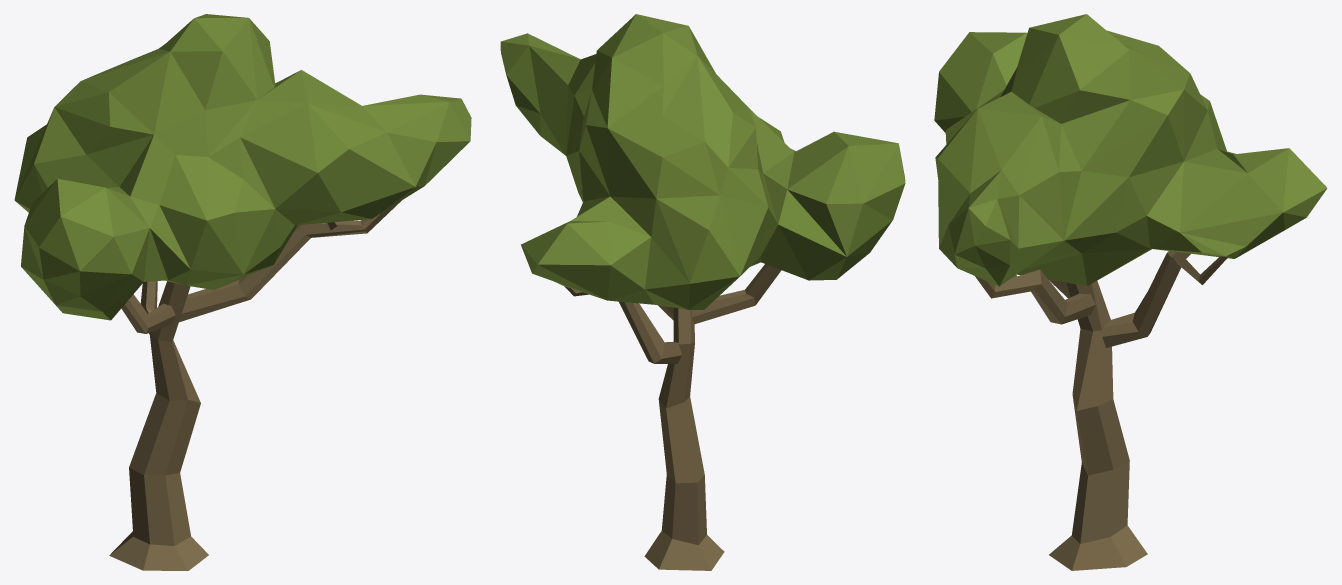
The model's file is Tree_2.fbx.
3 views of the same model, side by side, from view 1: azimuth 30°, elevation 25°; view 2: azimuth 150°, elevation 25°; view 3: azimuth 270°, elevation 25° (orthographic). The views are drawn at different scales.
Visible parts, largest first — view 1: Tree_2; view 2: Tree_2; view 3: Tree_2.
Boxes of the visible parts, x1,y1,x2,y2 form: Tree_2: (14,14,471,570); Tree_2: (500,14,905,570); Tree_2: (934,14,1327,570).
Bounding box in the file's own units: 421 × 502 × 323.
